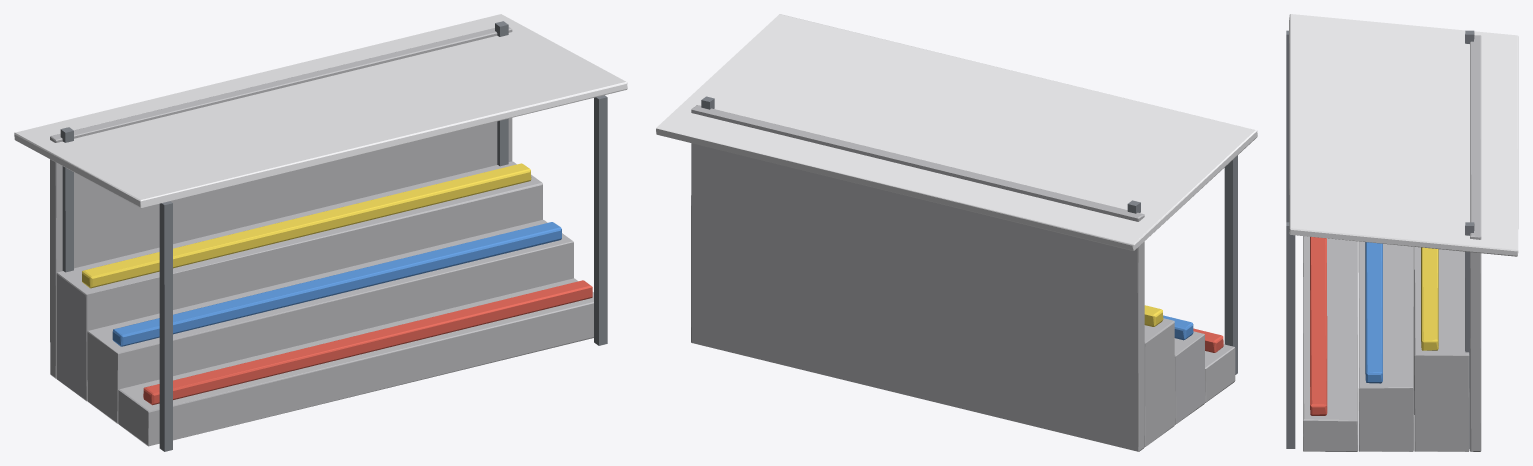
File: grandstand_lod1.fbx
3 renders of one model, left to right at view 1: azimuth 30°, elevation 25°; view 2: azimuth 150°, elevation 25°; view 3: azimuth 270°, elevation 25°, orthographic. The views are drawn at different scales.
Visible parts, largest first — view 1: grandstand_lod1; view 2: grandstand_lod1; view 3: grandstand_lod1.
Part boxes in pixels (x1,y1,x2,y2): grandstand_lod1: (14, 14, 627, 451); grandstand_lod1: (656, 14, 1257, 451); grandstand_lod1: (1286, 14, 1518, 451).
Size of the model in its own units: 6.4 by 3.2 by 2.92.
